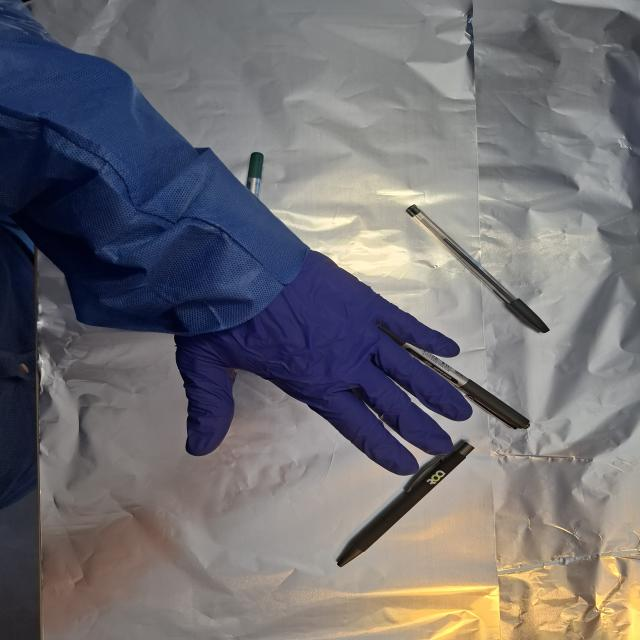glove_on: (168, 247, 476, 478)
